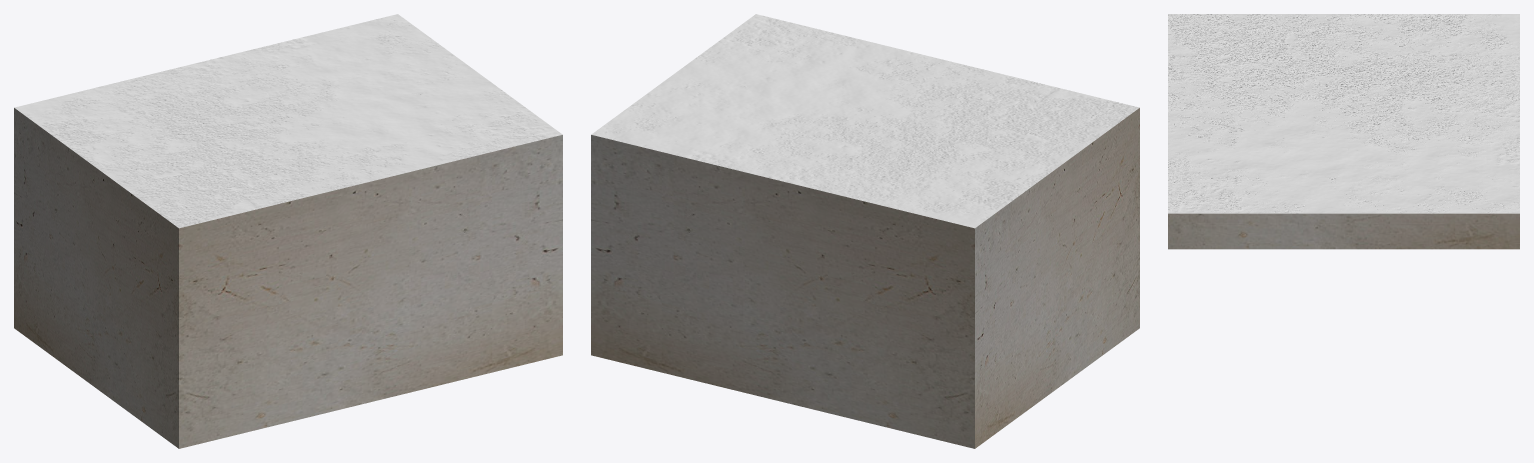
File: corridor.glb
The picture shows the model from 3 angles, left to right: view 1: azimuth 30°, elevation 25°; view 2: azimuth 150°, elevation 25°; view 3: azimuth 270°, elevation 25°; orthographic projection. The views are drawn at different scales.
Parts seen in each view (by area): view 1: corrdiro-col; view 2: corrdiro-col; view 3: corrdiro-col.
Part boxes in pixels (left/top/right/bottom): corrdiro-col: left=14, top=14, right=562, bottom=448; corrdiro-col: left=591, top=14, right=1139, bottom=448; corrdiro-col: left=1168, top=14, right=1519, bottom=249.
Bounding box in the file's own units: 5.33 × 2.93 × 3.97.
2 materials, 2 textured.
